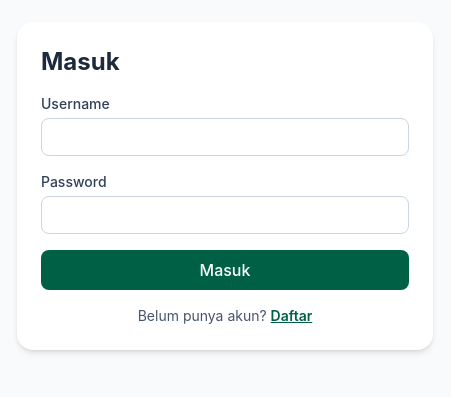
Test case: LoginPage › menampilkan pesan error server dan fallback
The width and height of the screenshot is (451, 397).
Type "a" into the field with id "login-username".
click(225, 137); type("a")  # box [41,118,409,156]
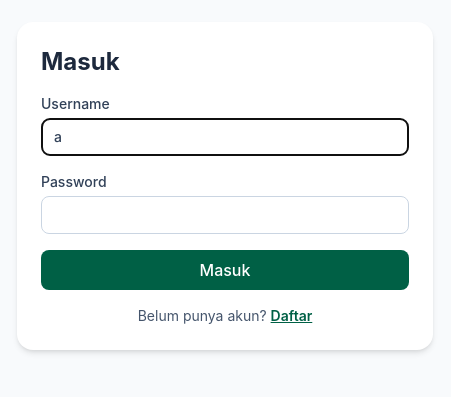
Type "b" into the password field with id "login-password".
click(225, 215); type("b")  # box [41,196,409,234]
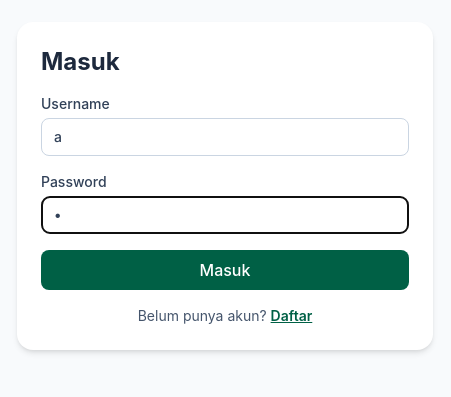
Click the button with id "login-submit".
click(225, 270)  # box [41,250,409,290]
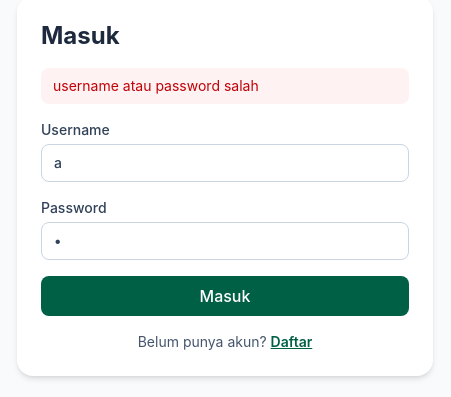
Now the text "username atau password salah" is shown, box [41,68,409,104]
Click the button with id "login-submit".
click(225, 296)  # box [41,276,409,316]
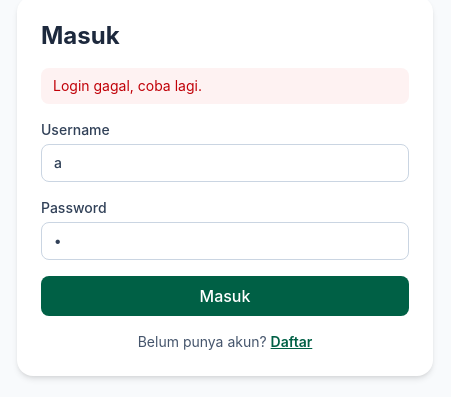
Now the text "Login gagal, coba lagi." is shown, box [41,68,409,104]
